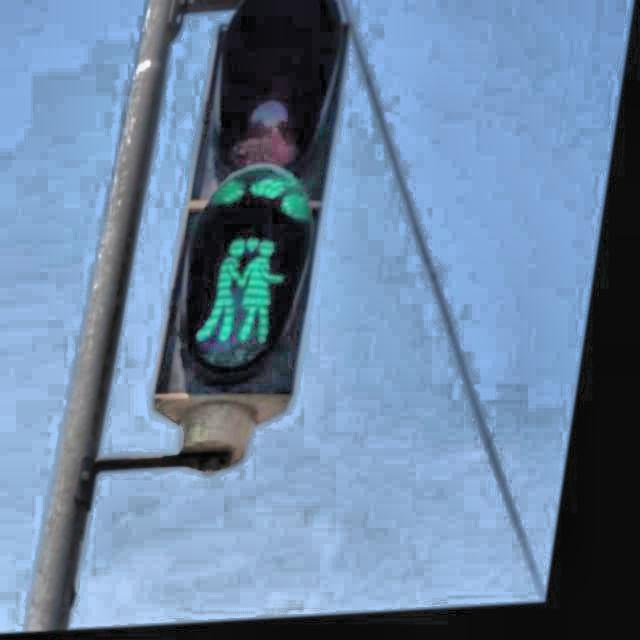semaforo pedestre: (78, 0, 417, 510)
